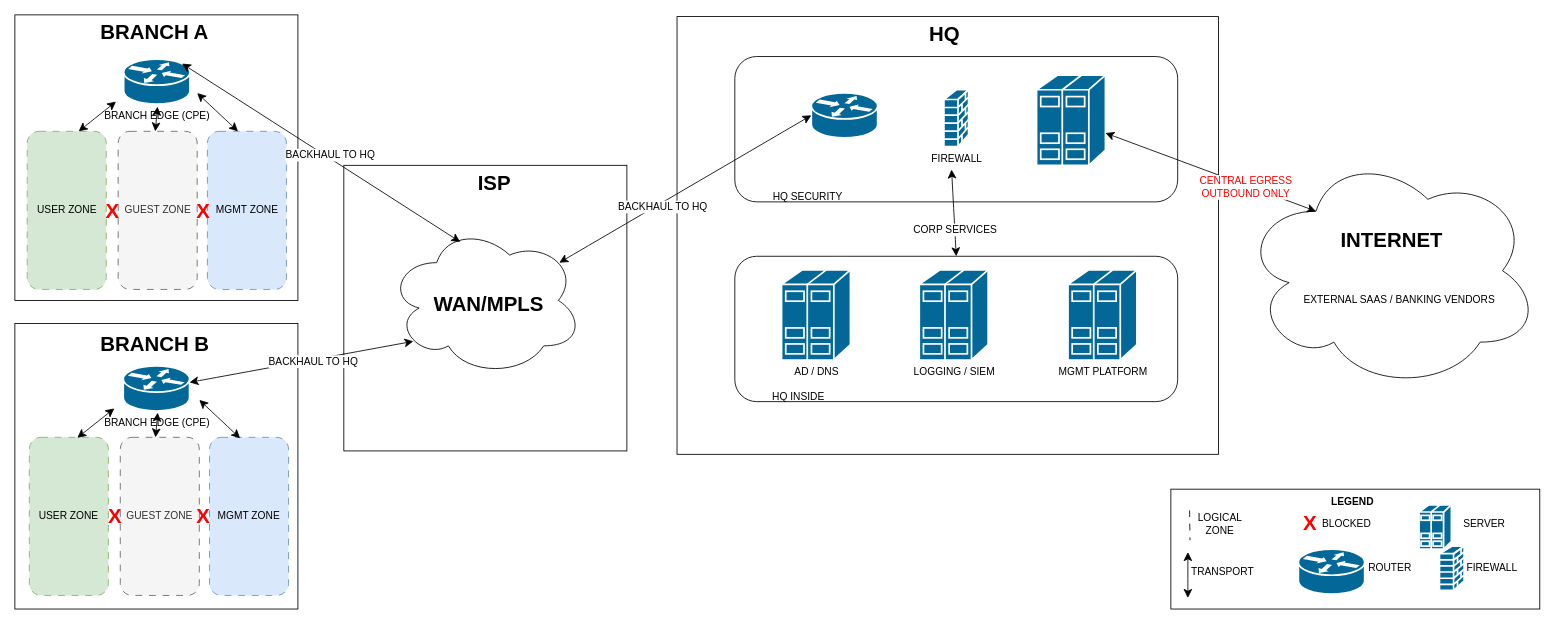
The diagram is 1555 pixels wide and 624 high, and some of its shapes have lost their labels. The centre of each missing label's shape, as x and y in pixels:
"HQ EDGE" goes at pixel 844 115.
"WEBPROXY / FILTER" goes at pixel 1070 120.
